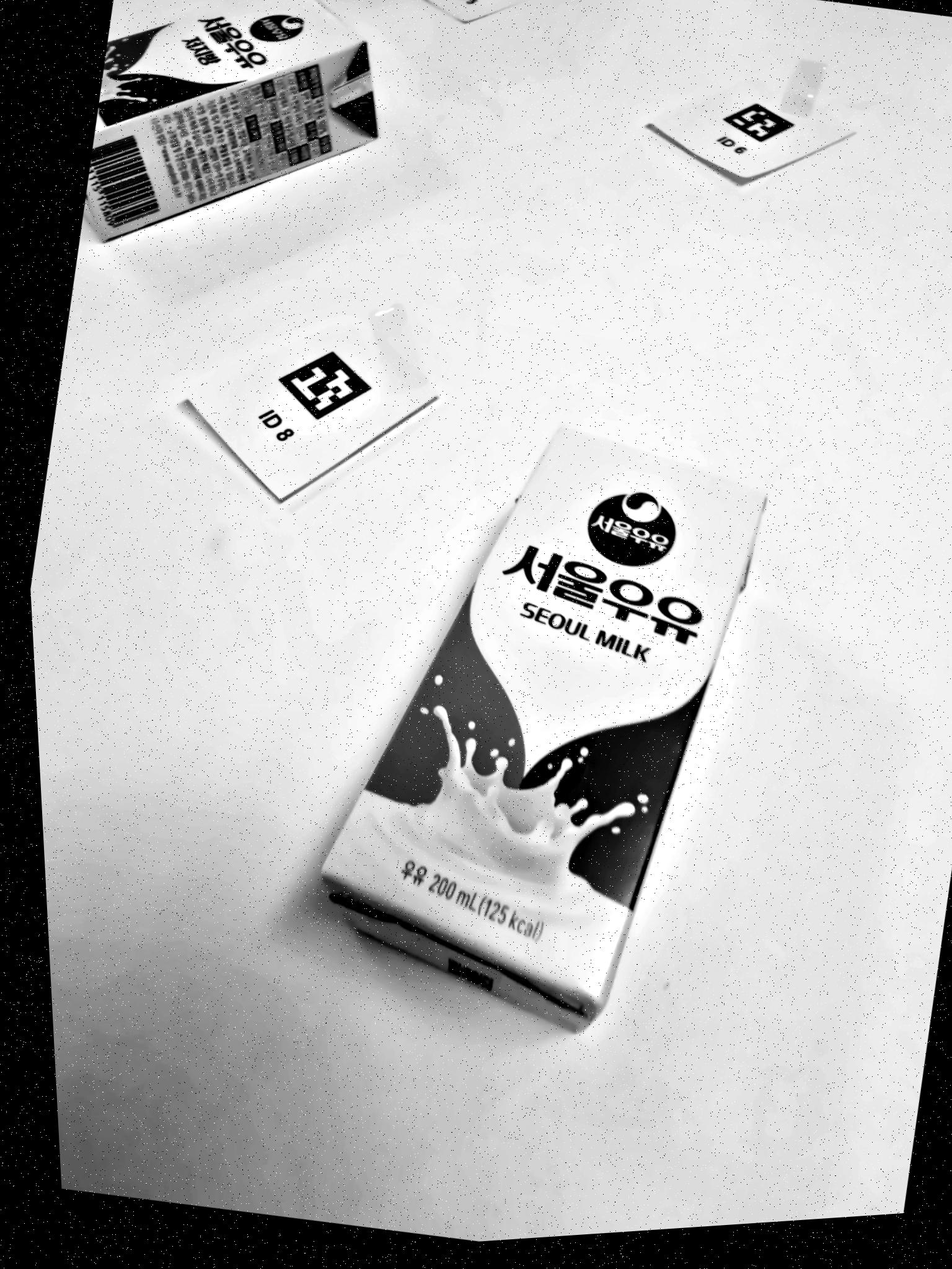milk_blue: (84, 0, 379, 240)
milk_green: (318, 424, 768, 1037)
